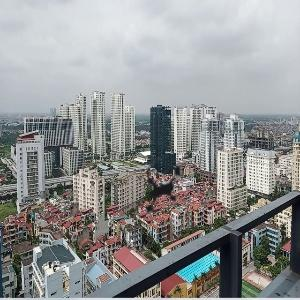drone: (107, 135, 218, 246)
